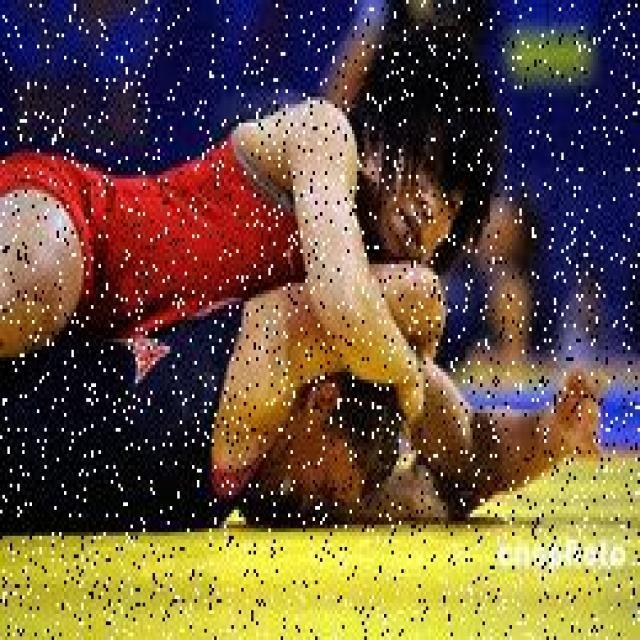fall: (1, 298, 504, 540)
